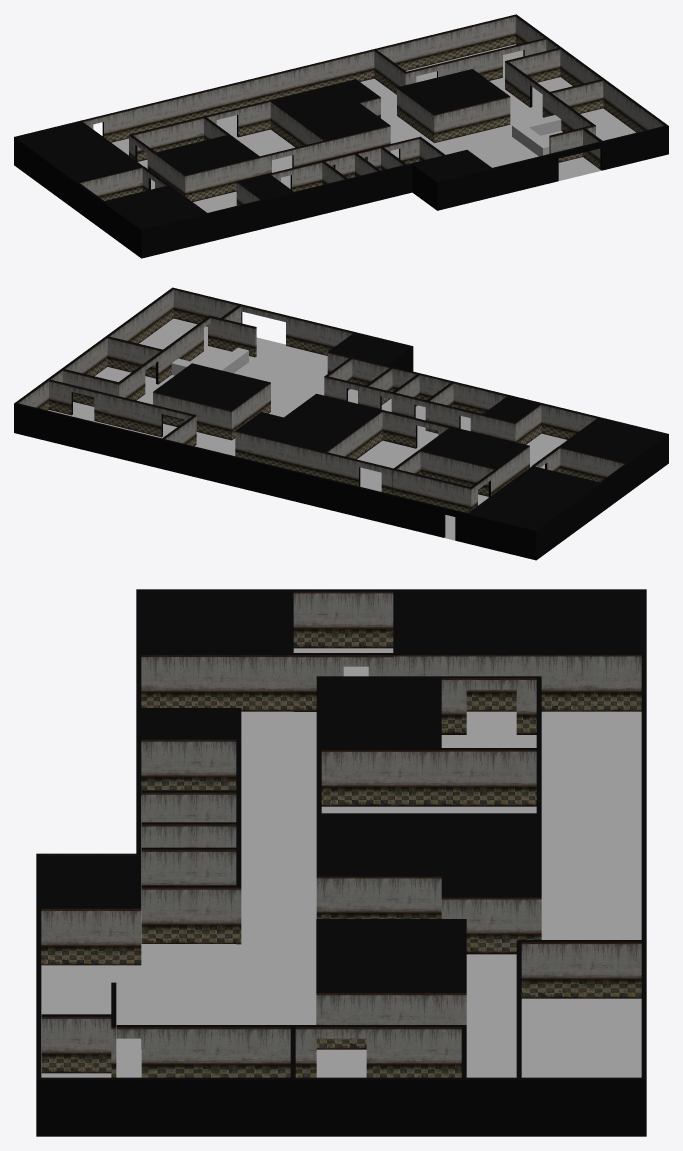
File: map4.fbx
3 views of the same model, one above another, from view 1: azimuth 30°, elevation 25°; view 2: azimuth 150°, elevation 25°; view 3: azimuth 270°, elevation 25° (orthographic). The views are drawn at different scales.
Visible parts, largest first — view 1: kabe1, floor1, pCube71, pCube14, pCube61, pCube65, pCube60, pCube76, pCube74, pCube86, pCube67, pCube81 (+10 smaller); view 2: kabe1, floor1, pCube71, pCube14, pCube65, pCube61, pCube60, pCube74, pCube76, pCube81, pCube86, pCube75 (+11 smaller); view 3: floor1, kabe1, pCube71, pCube61, pCube60, pCube14, pCube65, pCube86, pCube81, pCube75, pCube73, pCube68 (+10 smaller).
Boxes of the visible parts, left/top/right/bottom form: kabe1: left=14, top=14, right=668, bottom=258; floor1: left=111, top=44, right=635, bottom=212; pCube71: left=269, top=79, right=390, bottom=167; pCube14: left=397, top=69, right=510, bottom=142; pCube61: left=18, top=121, right=143, bottom=200; pCube65: left=154, top=134, right=260, bottom=201; pCube60: left=105, top=185, right=206, bottom=228; pCube76: left=270, top=136, right=421, bottom=191; pCube74: left=404, top=38, right=546, bottom=85; pCube86: left=505, top=60, right=593, bottom=132; pCube67: left=131, top=116, right=205, bottom=161; pCube81: left=413, top=150, right=491, bottom=180; kabe1: left=14, top=287, right=668, bottom=560; floor1: left=48, top=318, right=566, bottom=540; pCube71: left=235, top=393, right=383, bottom=477; pCube14: left=153, top=363, right=270, bottom=440; pCube65: left=419, top=426, right=529, bottom=496; pCube61: left=468, top=466, right=599, bottom=529; pCube60: left=558, top=418, right=664, bottom=482; pCube74: left=49, top=379, right=196, bottom=445; pCube76: left=324, top=376, right=482, bottom=433; pCube81: left=327, top=333, right=409, bottom=385; pCube86: left=117, top=316, right=210, bottom=400; pCube75: left=481, top=396, right=541, bottom=444; floor1: left=41, top=648, right=641, bottom=1077; kabe1: left=36, top=589, right=646, bottom=1136; pCube71: left=316, top=813, right=541, bottom=954; pCube61: left=393, top=591, right=641, bottom=711; pCube60: left=141, top=591, right=293, bottom=711; pCube14: left=316, top=919, right=466, bottom=1049; pCube65: left=316, top=676, right=441, bottom=806; pCube86: left=116, top=1025, right=466, bottom=1077; pCube81: left=41, top=856, right=141, bottom=965; pCube75: left=141, top=708, right=241, bottom=795; pCube73: left=521, top=940, right=641, bottom=998; pCube68: left=441, top=748, right=536, bottom=806.
Bounding box in the file's own units: 46.4 × 2.52 × 24.4.
